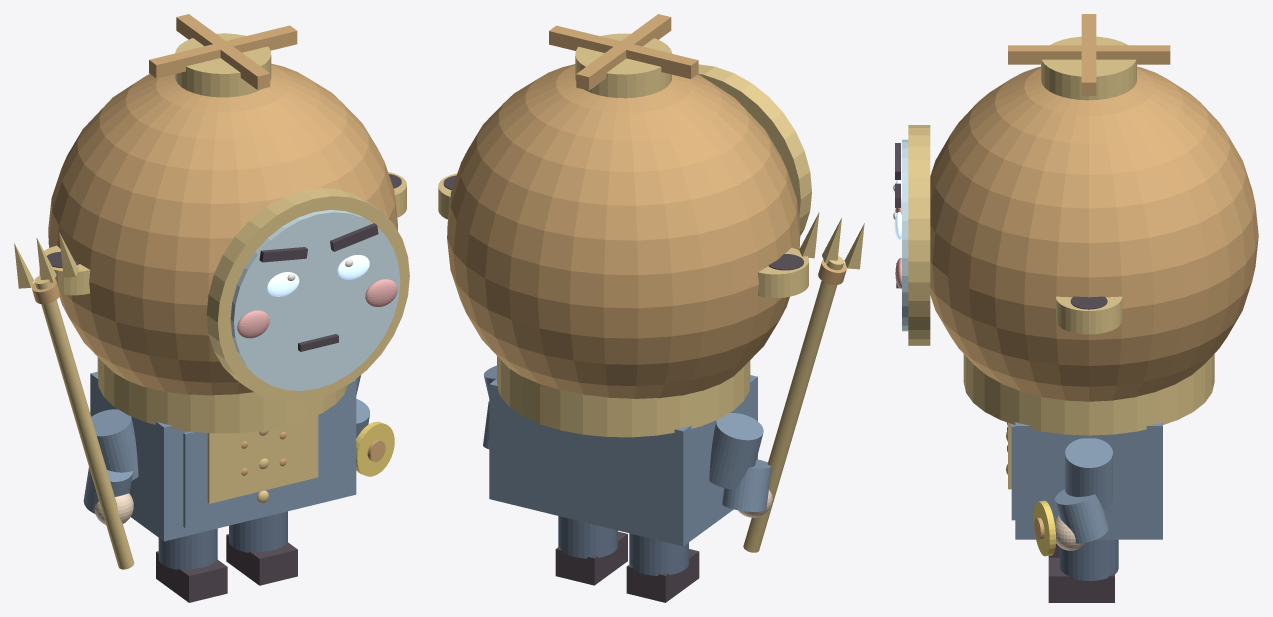
The model's file is diver.glb.
3 views of the same model, side by side, from view 1: azimuth 30°, elevation 25°; view 2: azimuth 150°, elevation 25°; view 3: azimuth 270°, elevation 25° (orthographic).
Parts seen in each view (by area): view 1: Helmet, WindowGlass, WindowRing, Coat, HelmetCollar, ChestPlate, CoatFront, TridentPole, TopGrill, GrillBar1, UpperArm_L, Shoe_L (+14 smaller); view 2: Helmet, Coat, HelmetCollar, TridentPole, WindowRing, UpperArm_L, TopGrill, GrillBar1, Leg_L, GrillBar2, Leg_R, Shoe_L (+3 smaller); view 3: Helmet, Coat, HelmetCollar, WindowRing, TopGrill, UpperArm_R, GrillBar2, Leg_R, SideVent_R, Forearm_R, Shoe_R, WindowGlass (+3 smaller).
Part boxes in pixels (bbox=[...]): Helmet: bbox=[48, 63, 397, 395]; WindowGlass: bbox=[230, 210, 400, 390]; WindowRing: bbox=[206, 188, 409, 402]; Coat: bbox=[90, 371, 356, 541]; HelmetCollar: bbox=[97, 357, 347, 433]; ChestPlate: bbox=[207, 415, 318, 503]; CoatFront: bbox=[183, 401, 338, 527]; TridentPole: bbox=[34, 275, 134, 569]; TopGrill: bbox=[175, 33, 271, 97]; GrillBar1: bbox=[149, 25, 297, 78]; UpperArm_L: bbox=[91, 409, 138, 480]; Shoe_L: bbox=[156, 551, 227, 602]; Helmet: bbox=[447, 64, 800, 398]; Coat: bbox=[489, 375, 757, 546]; HelmetCollar: bbox=[497, 356, 750, 437]; TridentPole: bbox=[743, 256, 843, 552]; WindowRing: bbox=[698, 64, 811, 235]; UpperArm_L: bbox=[709, 413, 763, 489]; TopGrill: bbox=[575, 33, 671, 98]; GrillBar1: bbox=[549, 25, 698, 78]; Leg_L: bbox=[629, 533, 688, 575]; GrillBar2: bbox=[576, 14, 671, 90]; Leg_R: bbox=[558, 516, 617, 558]; Shoe_L: bbox=[626, 549, 699, 602]; Helmet: bbox=[930, 66, 1258, 401]; Coat: bbox=[1015, 422, 1162, 539]; HelmetCollar: bbox=[963, 354, 1214, 435]; WindowRing: bbox=[908, 125, 930, 345]; TopGrill: bbox=[1041, 36, 1136, 100]; UpperArm_R: bbox=[1065, 438, 1112, 510]; GrillBar2: bbox=[1008, 45, 1170, 64]; Leg_R: bbox=[1059, 539, 1118, 580]; SideVent_R: bbox=[1056, 296, 1122, 334]; Forearm_R: bbox=[1055, 489, 1108, 543]; Shoe_R: bbox=[1048, 557, 1114, 602]; WindowGlass: bbox=[902, 139, 908, 331].
Size of the model in its own units: 1.59 by 2 by 1.25.
